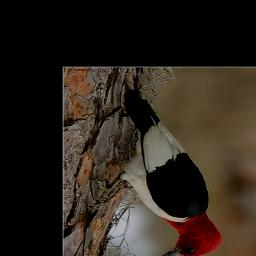Woodpecker: (89, 78, 224, 256)
